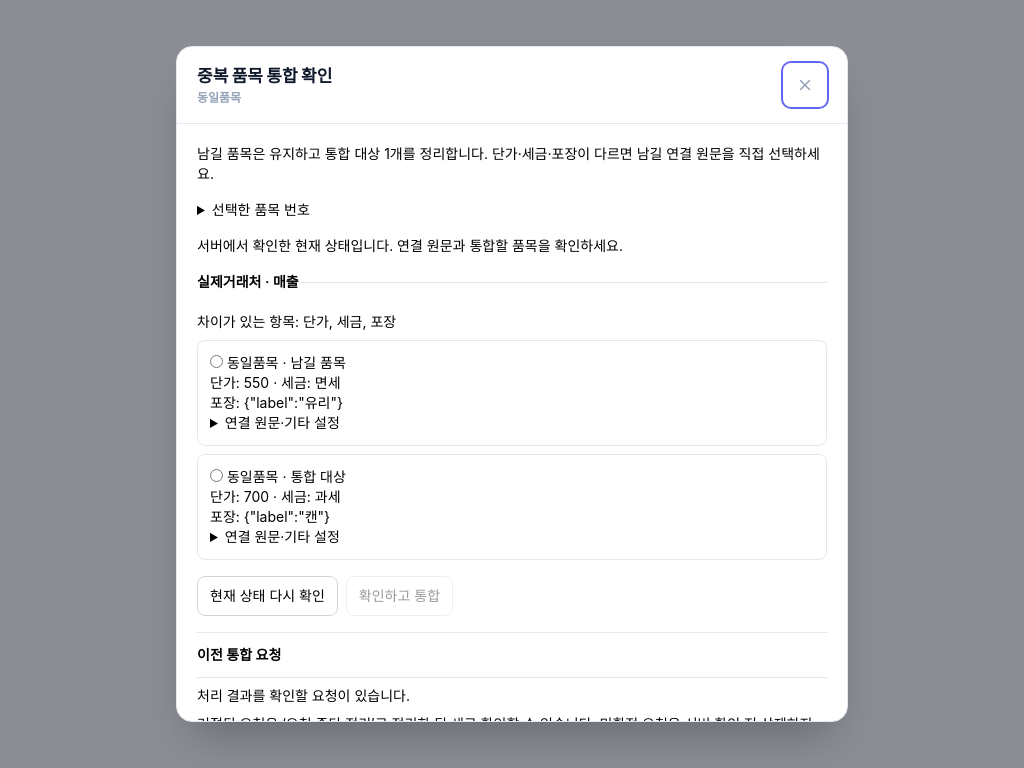
Test case: 다른품목미확정요청은보존해보여주면서현재정상preview와선택은허용
Expected: the text "차이가 있는 항목: 단가, 세금, 포장" is shown, [197,313,396,330]
Expected: the button "현재 상태 다시 확인" is enabled, [197,576,338,616]
Click the radio button with aria-label "남길 연결 a" at (216, 362), box [210,355,223,368]
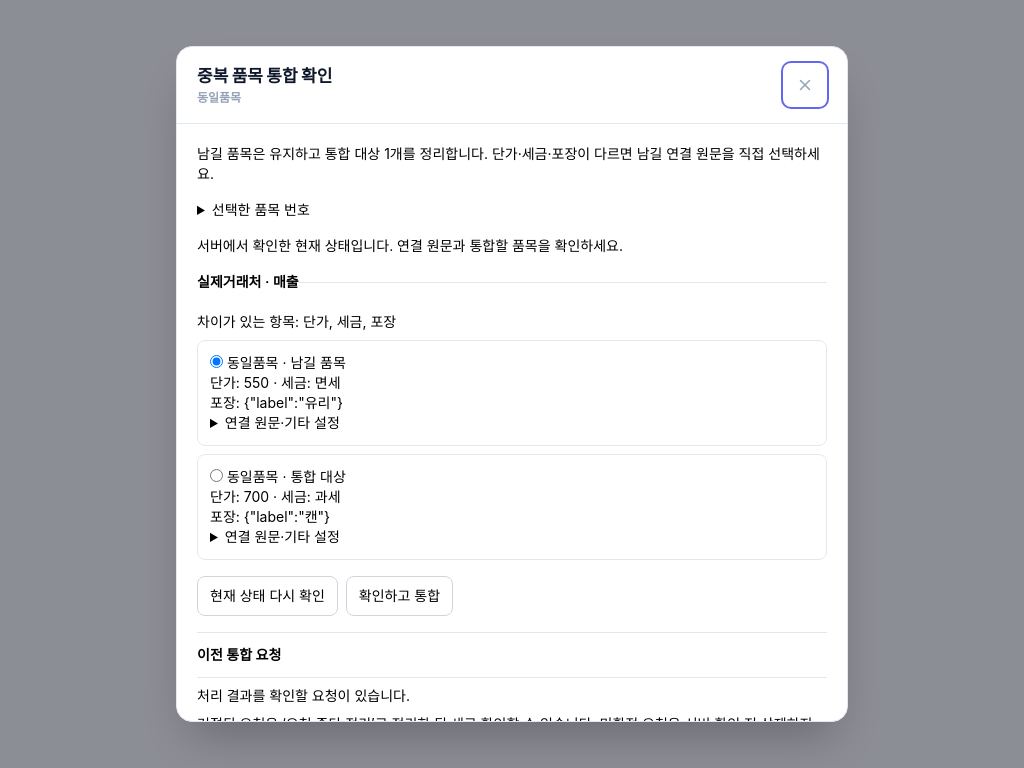
Expected: the button "확인하고 통합" is enabled, [346,576,453,616]
